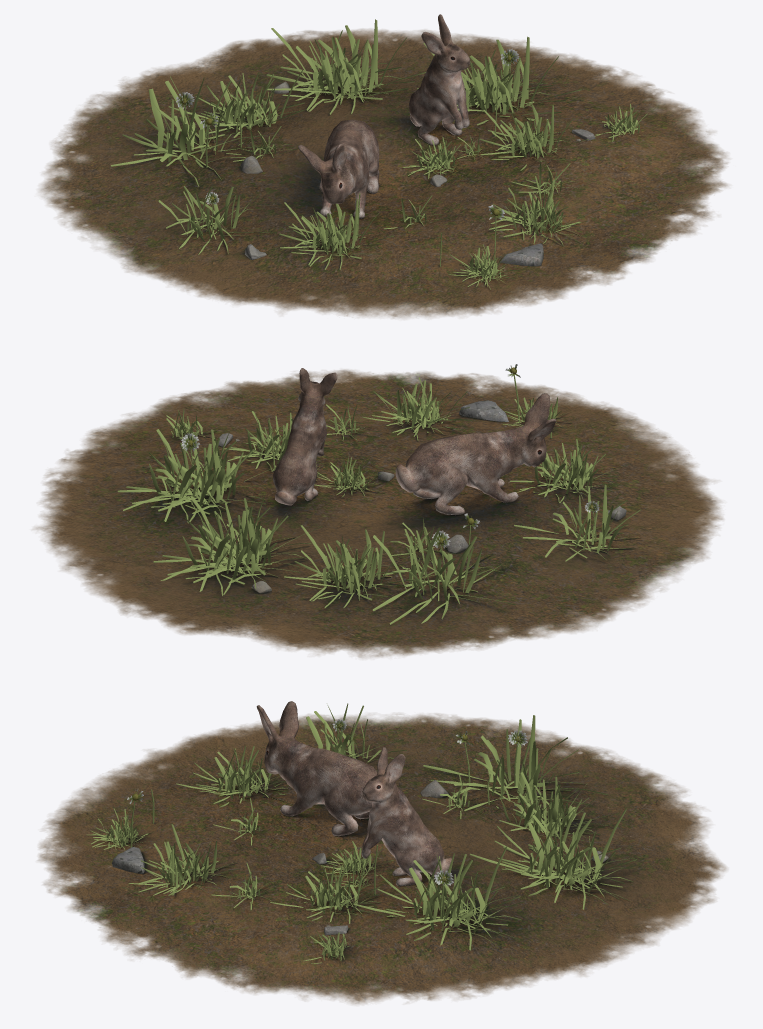
Rendered from conejo.glb.
The picture shows the model from 3 angles, top to bottom: view 1: azimuth 30°, elevation 25°; view 2: azimuth 150°, elevation 25°; view 3: azimuth 270°, elevation 25°; orthographic projection.
Parts seen in each view (by area): view 1: Suelo, GrassSet1.017, Rabbit.002, Rabbit.001, Piedras.004; view 2: Suelo, GrassSet1.017, Rabbit.001, Rabbit.002, Piedras.004; view 3: Suelo, GrassSet1.017, Rabbit.001, Rabbit.002, Piedras.004.
Part boxes in pixels (x1,y1,x2,y2): Suelo: [39, 29, 728, 318]; GrassSet1.017: [110, 19, 655, 289]; Rabbit.002: [409, 14, 470, 145]; Rabbit.001: [298, 119, 379, 218]; Piedras.004: [500, 243, 543, 266]; Suelo: [33, 369, 723, 658]; GrassSet1.017: [117, 375, 640, 624]; Rabbit.001: [395, 393, 556, 514]; Rabbit.002: [273, 368, 337, 505]; Piedras.004: [459, 400, 508, 421]; Suelo: [38, 713, 726, 1004]; GrassSet1.017: [86, 703, 640, 963]; Rabbit.001: [256, 701, 377, 836]; Rabbit.002: [361, 747, 451, 885]; Piedras.004: [112, 847, 144, 873].
Bounding box in the file's own units: 1.88 × 0.3936 × 1.88.
Materials: 8 (7 with a texture image).
